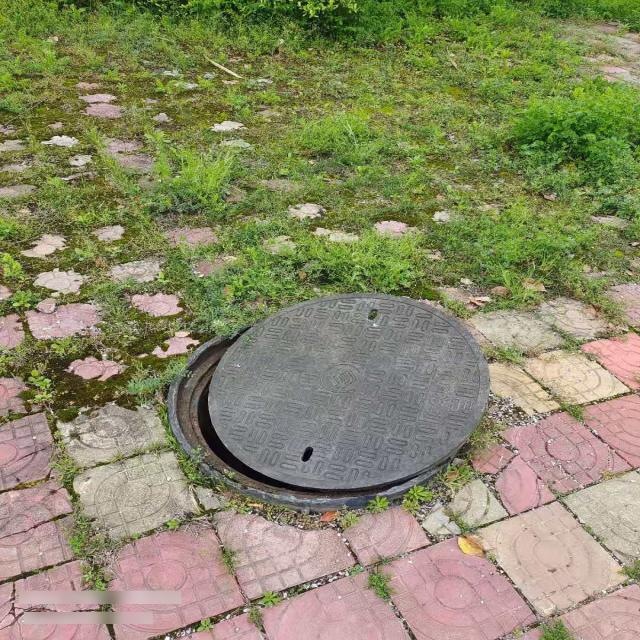Faulty: (166, 295, 491, 510)
